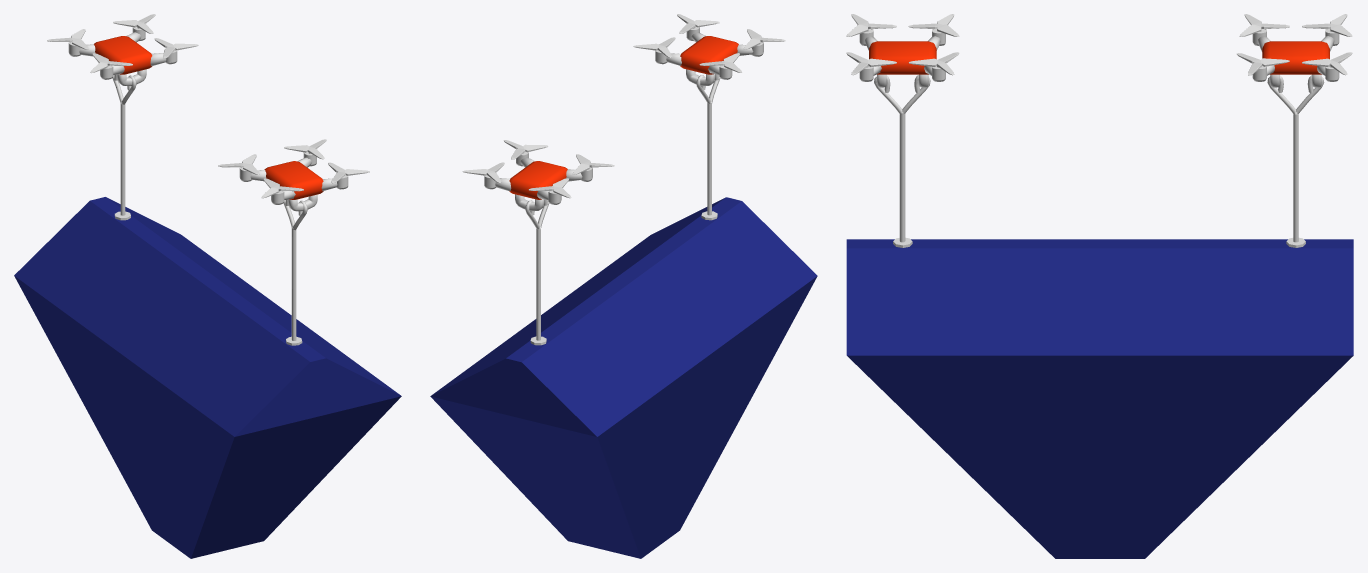
File: Dron 1.fbx
The picture shows the model from 3 angles, left to right: view 1: azimuth 30°, elevation 25°; view 2: azimuth 150°, elevation 25°; view 3: azimuth 270°, elevation 25°; orthographic projection. The views are drawn at different scales.
Parts seen in each view (by area): view 1: Cube.030, Cube.015, Cube.023, Cylinder.019, Cylinder.018; view 2: Cube.030, Cube.015, Cube.023, Cylinder.018, Cylinder.019; view 3: Cube.030, Cube.015, Cube.023, Cylinder.018, Cylinder.019.
Part boxes in pixels (x1,y1,x2,y2): Cube.030: (14, 197, 401, 558); Cube.015: (264, 161, 323, 199); Cube.023: (94, 36, 152, 74); Cylinder.019: (120, 102, 125, 215); Cylinder.018: (291, 227, 296, 340); Cube.030: (430, 197, 817, 558); Cube.015: (680, 36, 738, 74); Cube.023: (509, 161, 567, 199); Cylinder.018: (707, 102, 711, 215); Cylinder.019: (536, 227, 540, 340); Cube.030: (846, 239, 1353, 558); Cube.015: (869, 41, 936, 74); Cube.023: (1262, 41, 1329, 74); Cylinder.018: (899, 112, 905, 242); Cylinder.019: (1293, 112, 1298, 242).
Size of the model in its own units: 1129 by 2784 by 2581.
